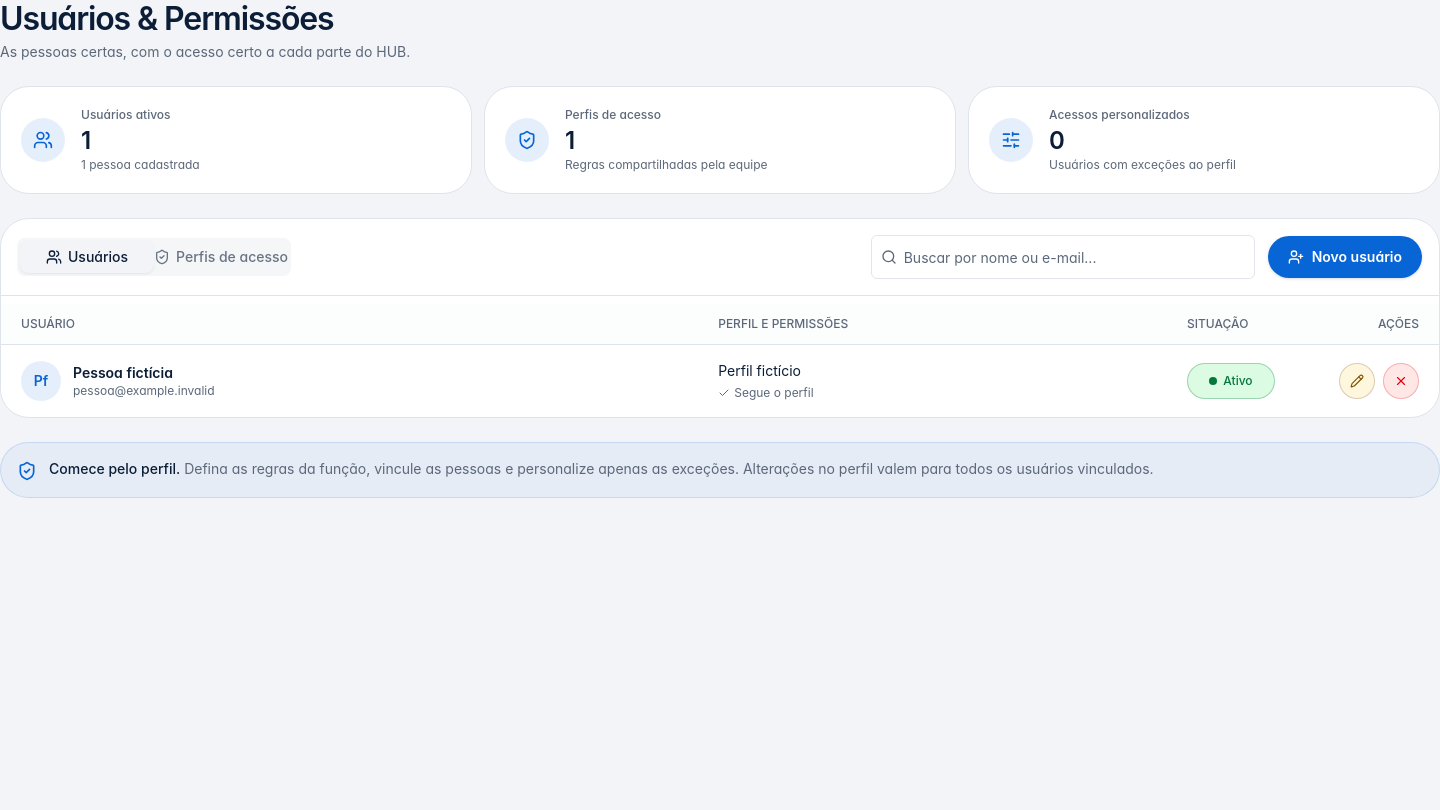
Scenario: mostra somente a confirmação de exclusão e retorna ao rascunho do usuario
The image size is (1440, 810).
Step 1. Click the button named "Gerenciar Pessoa fictícia" → (1357, 381), box 1339,363 -> 1375,399
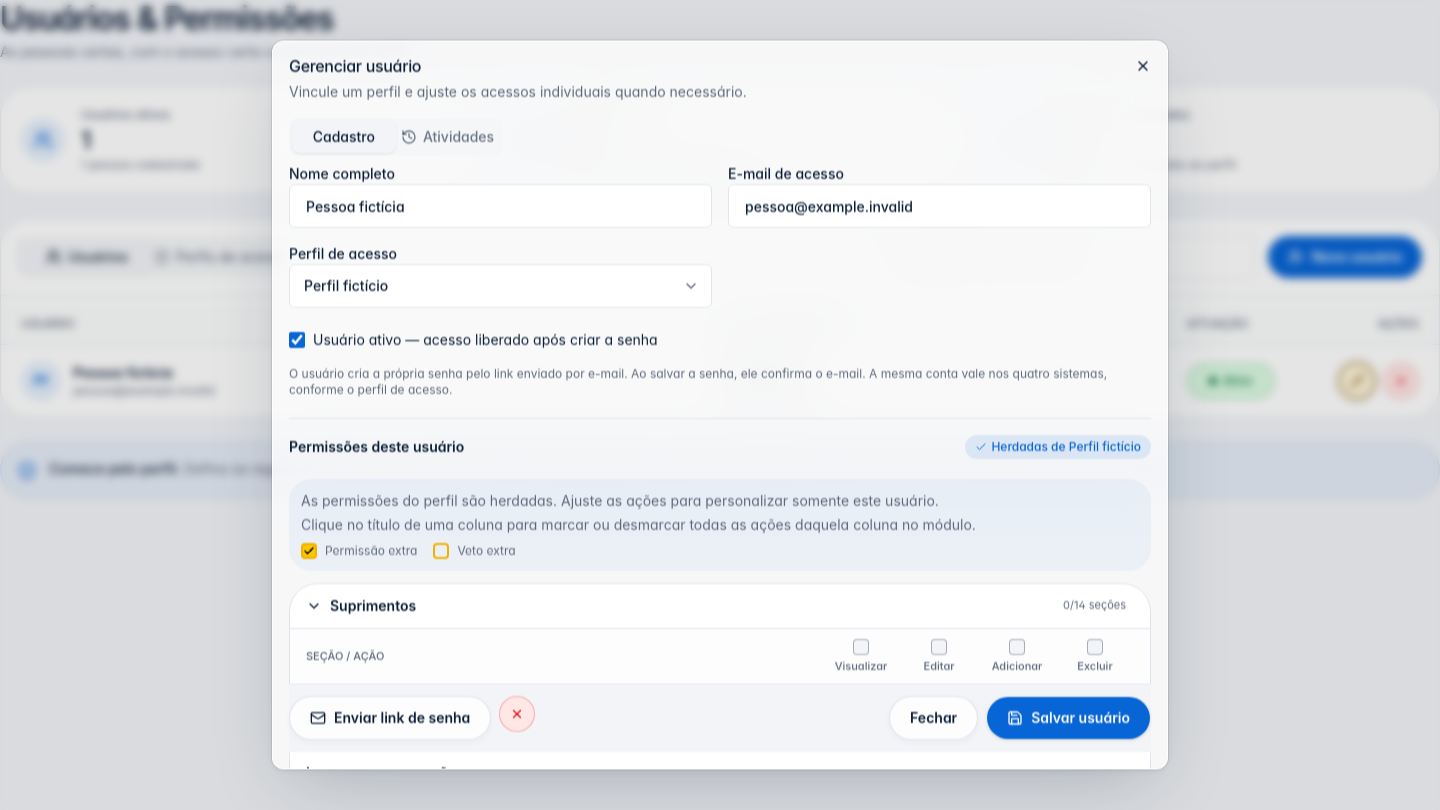
Step 2. Replace the text in the field labelled "Nome completo" with "Rascunho fictício preservado" → (500, 206), box 289,184 -> 712,228
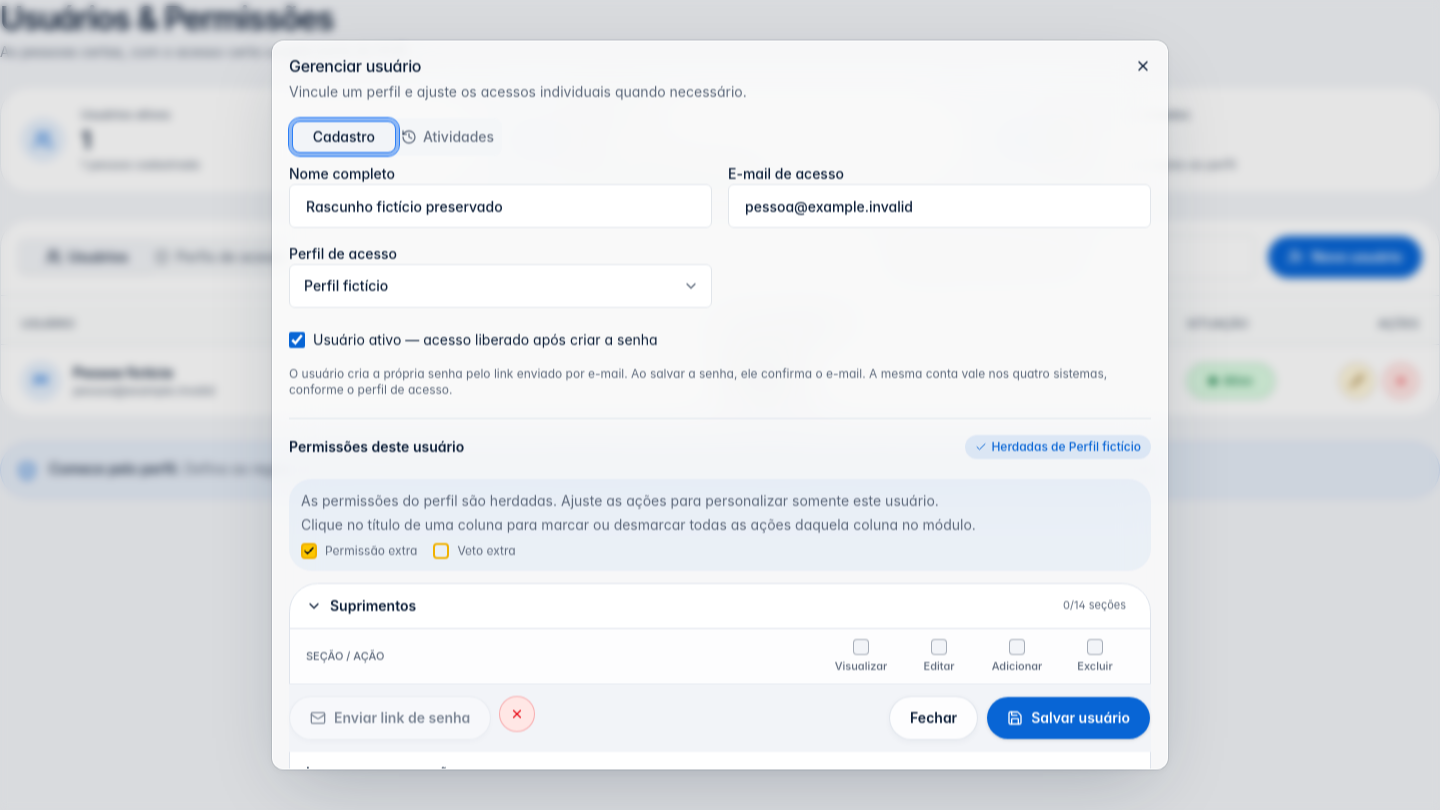
Step 3. Click the button named "Excluir usuário" → (517, 714), box 499,696 -> 535,732
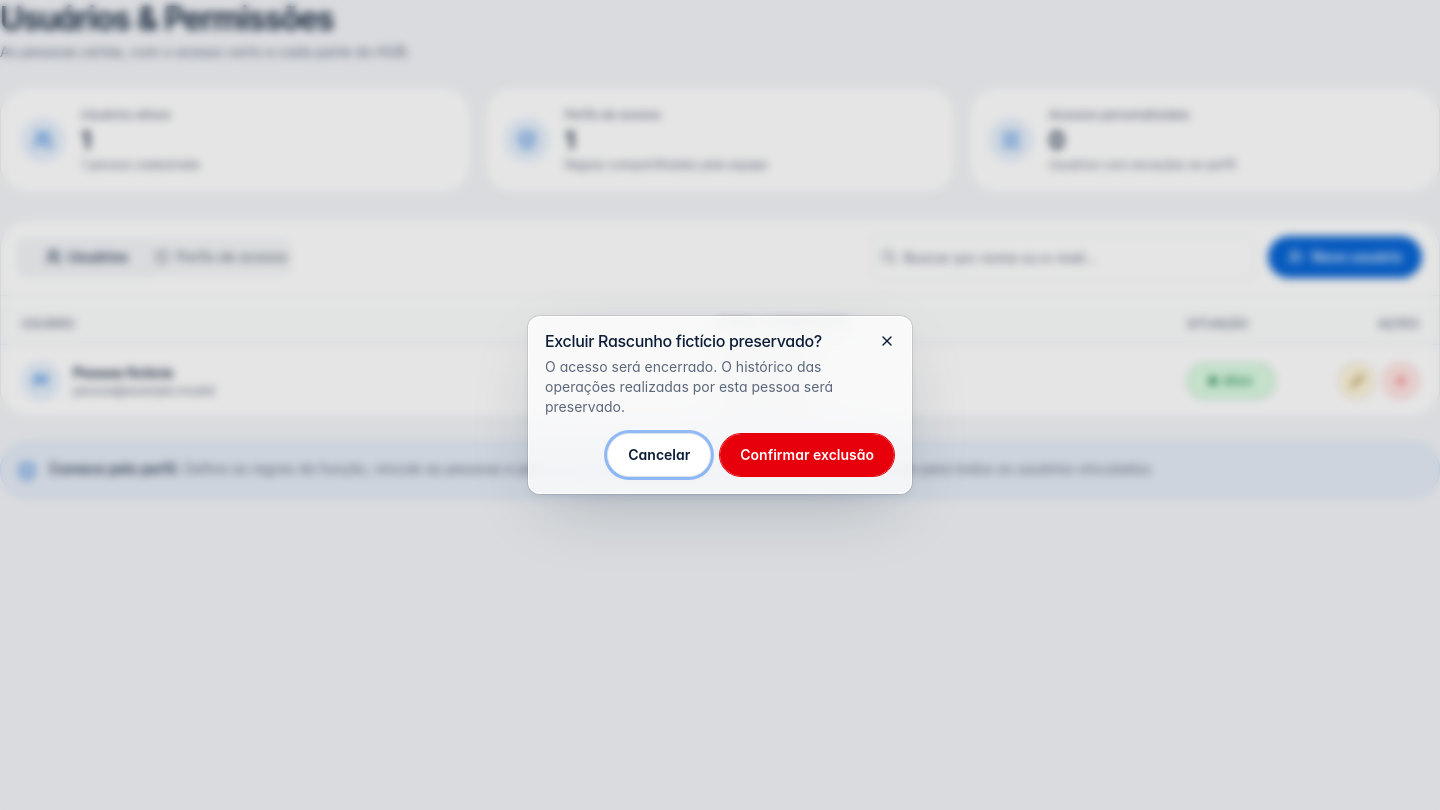
Result: the number of dialogs is 1 at 528,316 -> 912,494
Step 4. Click the button "Cancelar" → (659, 455), box 607,433 -> 711,477
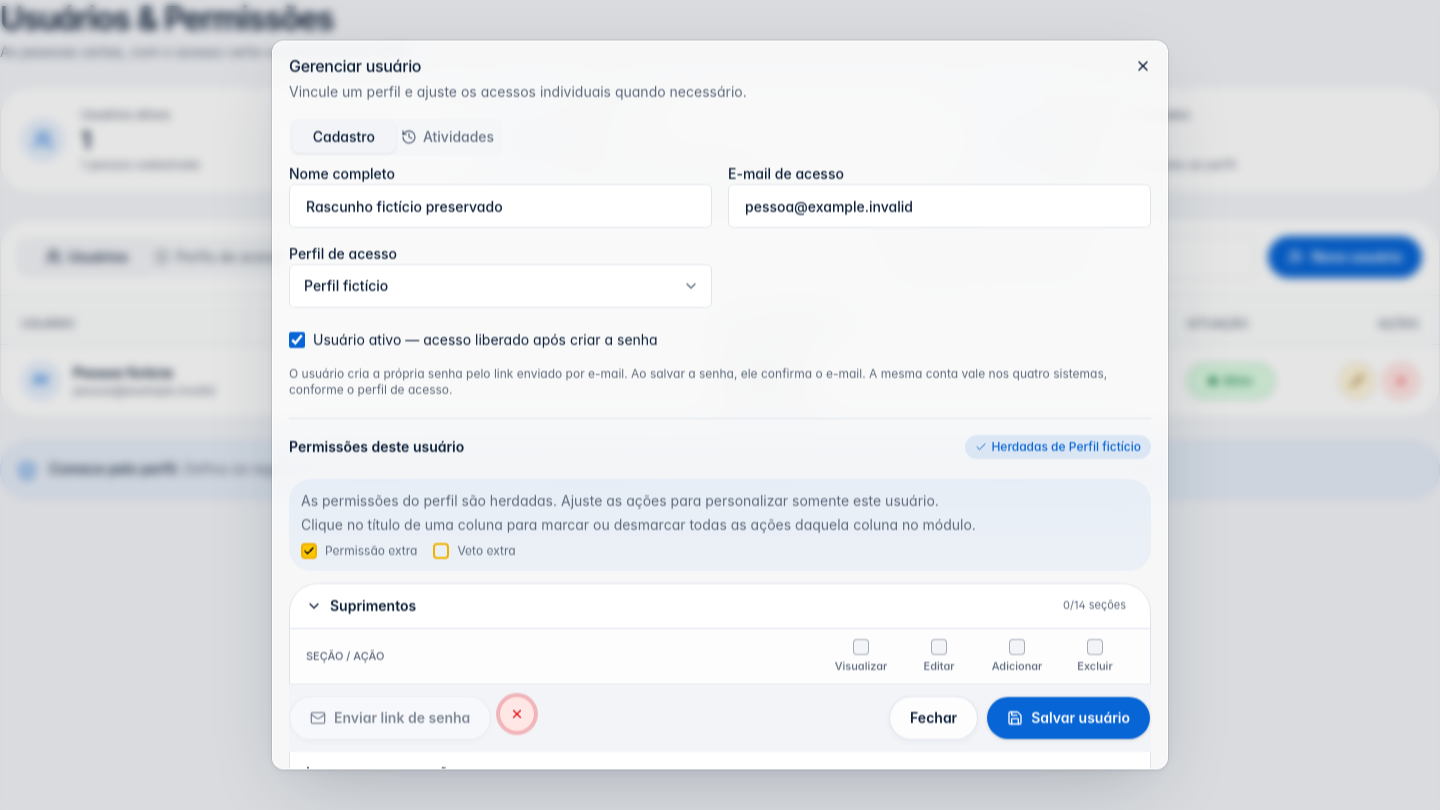
Result: the number of dialogs is 1 at 272,40 -> 1168,770
